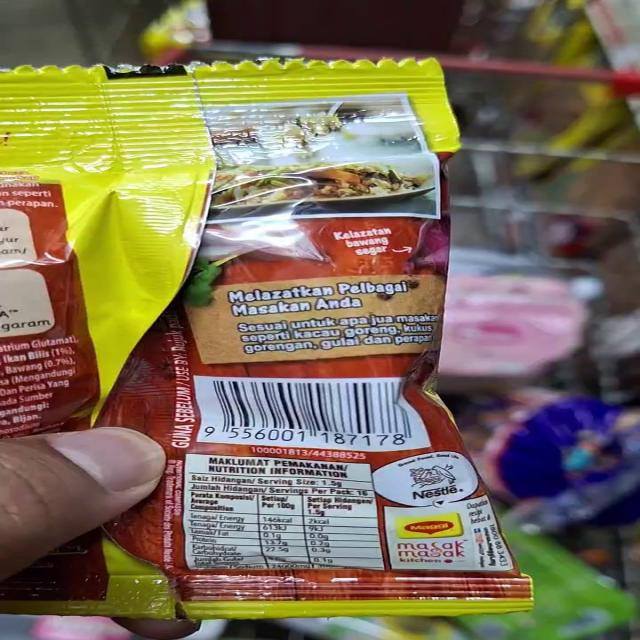Maggi Cukup Rasa: (0, 50, 510, 616)
